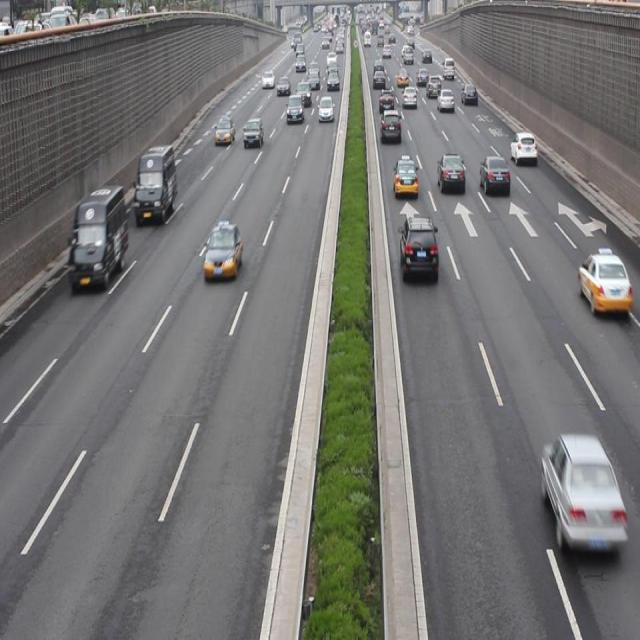car: (540, 429, 624, 552), (576, 248, 630, 318), (399, 214, 438, 279), (203, 222, 243, 279), (479, 153, 511, 197), (438, 150, 466, 196), (392, 156, 417, 198), (509, 129, 537, 165), (242, 116, 264, 149), (215, 115, 235, 146), (286, 92, 304, 123), (318, 96, 334, 124)
truck: (69, 184, 126, 288), (133, 144, 178, 223), (378, 106, 402, 143)
